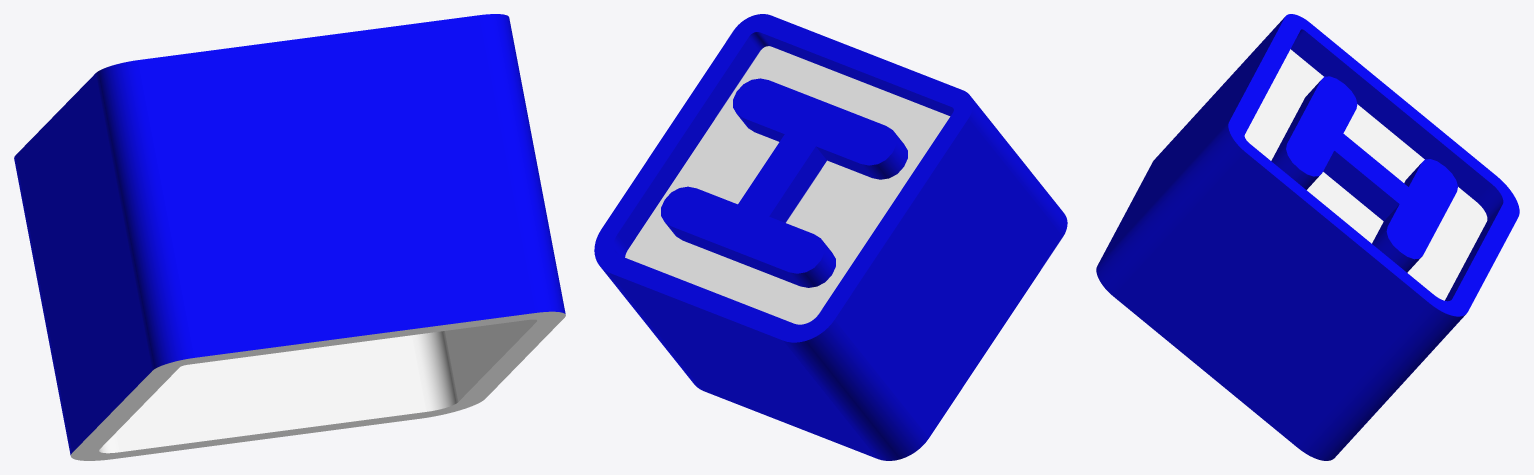
Rendered from Playblock_blue.fbx.
3 renders of one model, left to right at view 1: azimuth 30°, elevation 25°; view 2: azimuth 150°, elevation 25°; view 3: azimuth 270°, elevation 25°, orthographic. The views are drawn at different scales.
Visible parts, largest first — view 1: Timothy_4_1; view 2: Timothy_4_1, H1; view 3: Timothy_4_1, H1.
Boxes of the visible parts, left/top/right/bottom form: Timothy_4_1: left=14, top=14, right=565, bottom=460; Timothy_4_1: left=594, top=14, right=1067, bottom=460; H1: left=661, top=78, right=907, bottom=287; Timothy_4_1: left=1096, top=14, right=1519, bottom=460; H1: left=1271, top=76, right=1457, bottom=272.
Size of the model in its own units: 1273 by 1237 by 1445.
